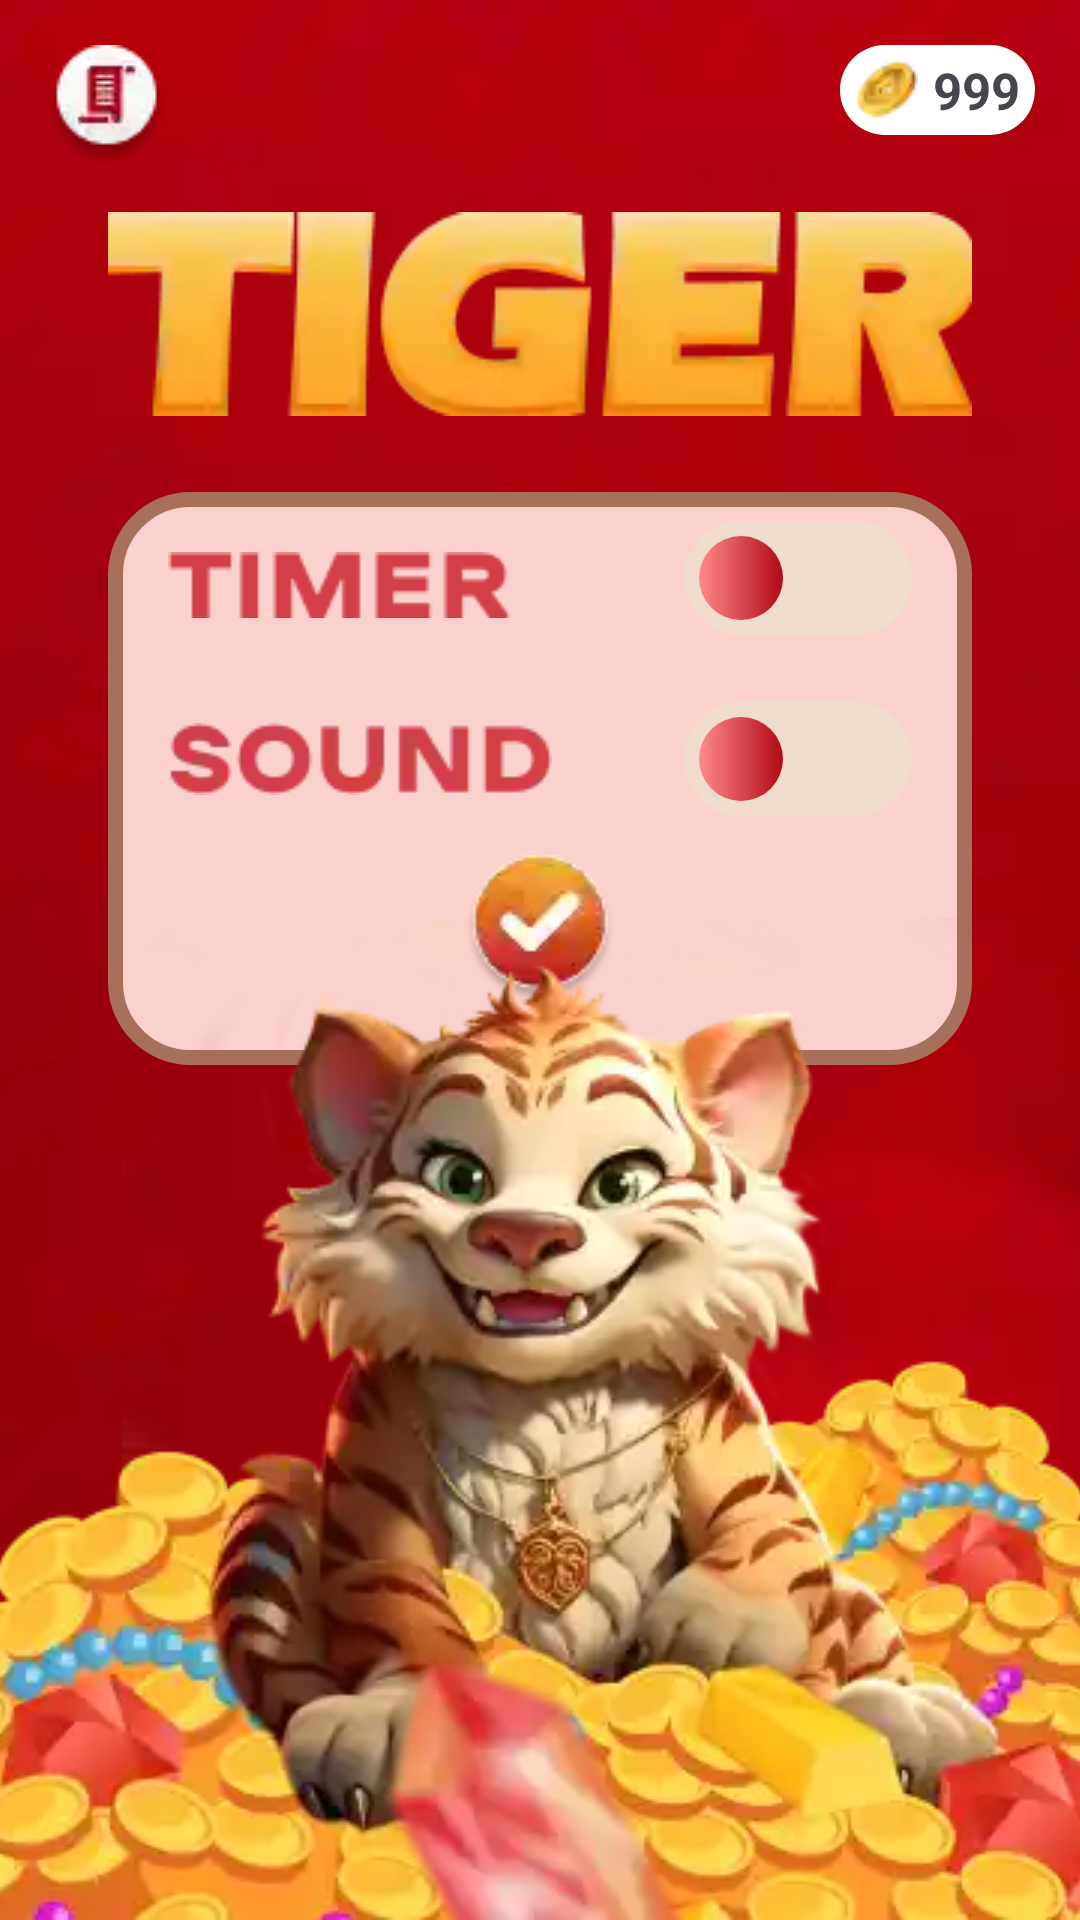

Icon bounding boxes for this 1080px×1920px phone screenshot, format (x1, y1, x2, y2):
coin balance: (840, 45, 918, 135)
privacy: (56, 45, 157, 155)
